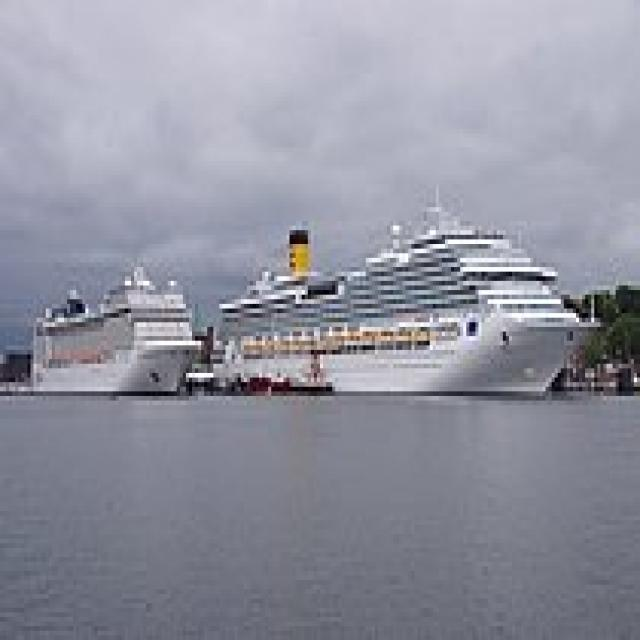Ship: (211, 181, 617, 421), (20, 254, 215, 406)
